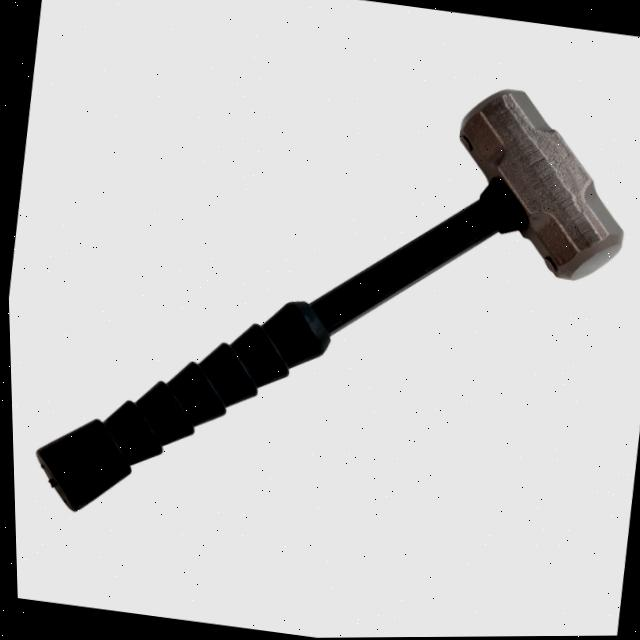hammer: (6, 15, 640, 595)
